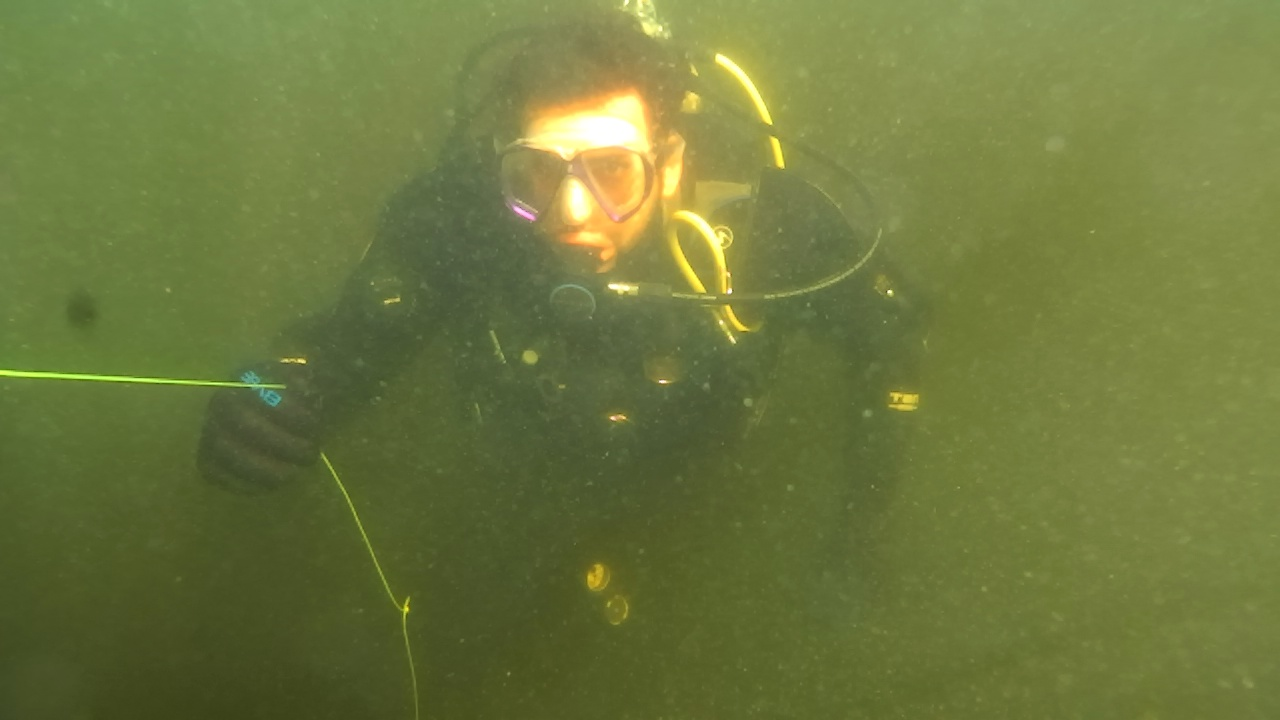Diver: (174, 6, 954, 620)
Hand: (186, 344, 350, 506), (808, 466, 914, 588)
Head: (472, 22, 694, 284)
